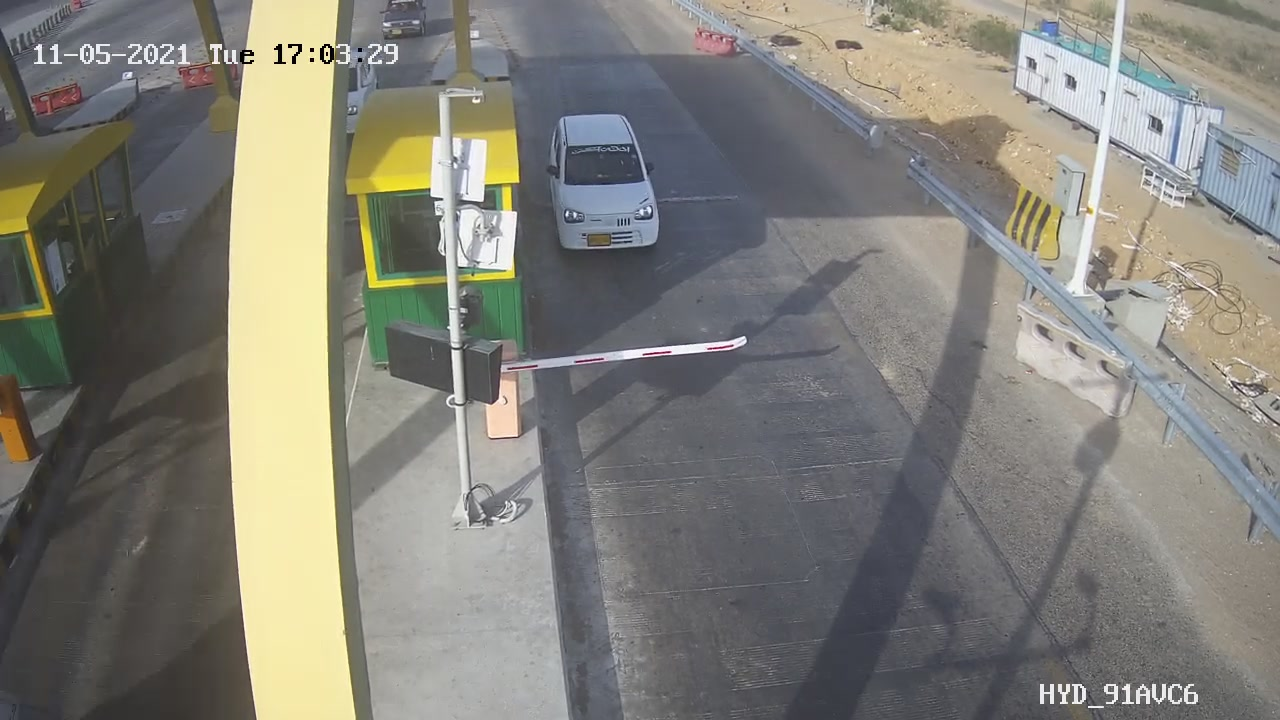F1: (529, 98, 677, 274)
